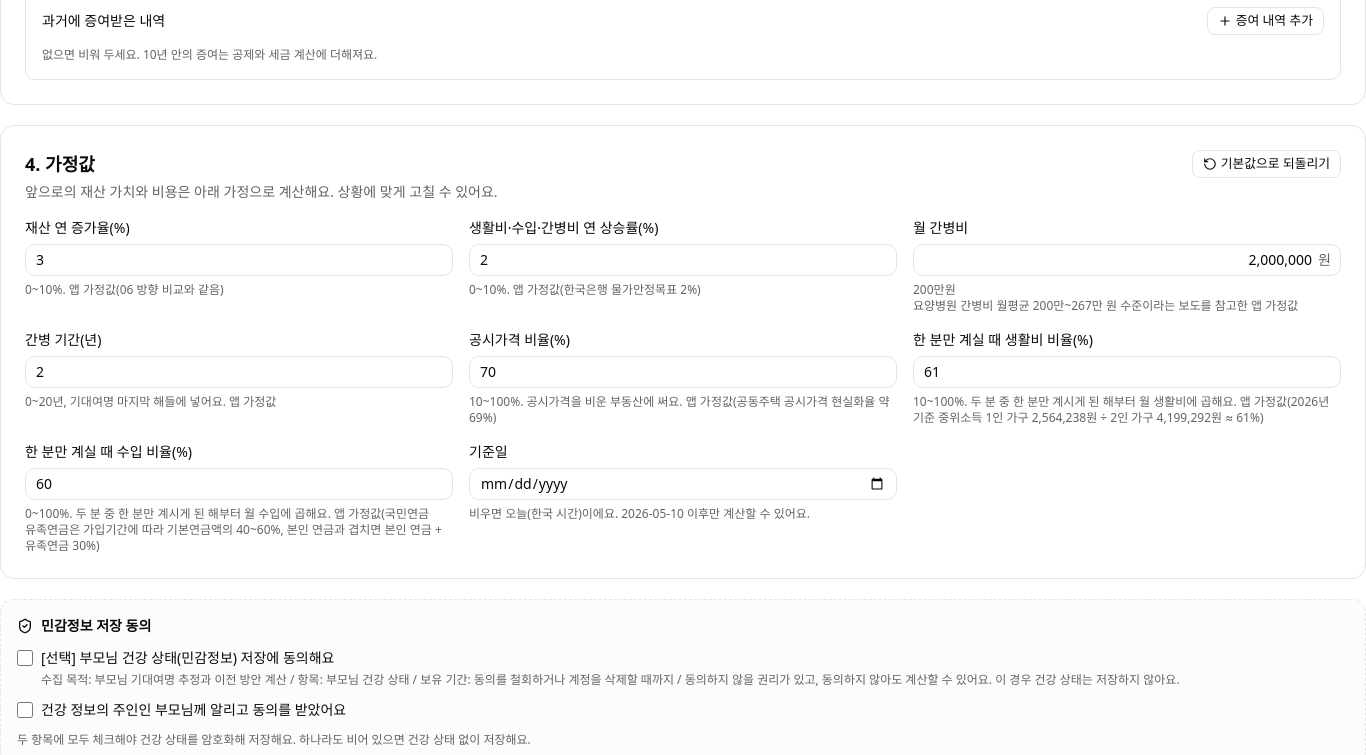
입력 › 가정값에 한 분만 계실 때 생활비·수입 비율 두 칸과 근거 안내가 있고, 검증과 기본값 되돌리기를 한다
(page scrolled)
Check: the field labelled "한 분만 계실 때 수입 비율(%)" holds "60", box [25,468,453,500]
Check: the field labelled "생활비·수입·간병비 연 상승률(%)" holds "2", box [469,244,897,276]
Replace the text in the field labelled "한 분만 계실 때 생활비 비율(%)" with "9.5" at (1127, 372), box [913,356,1341,388]
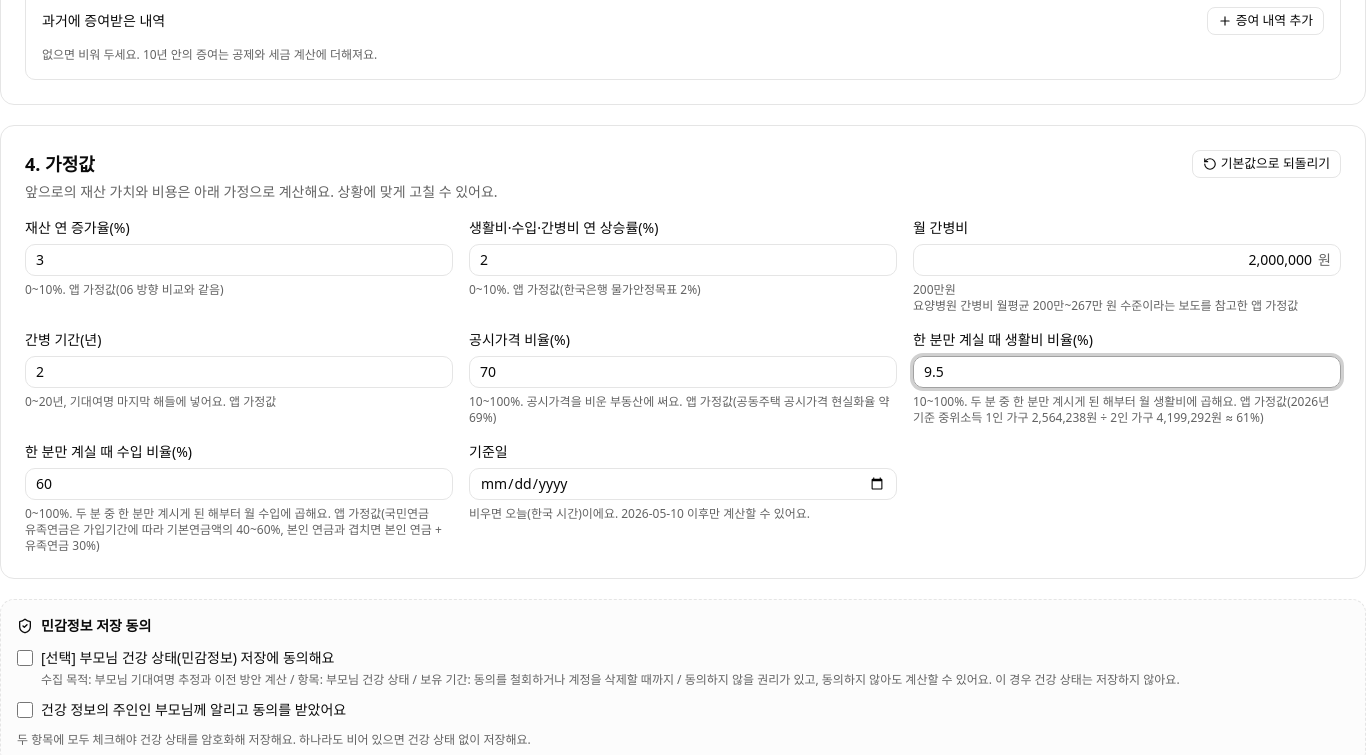
Replace the text in the field labelled "한 분만 계실 때 수입 비율(%)" with "100.5" at (239, 484), box [25,468,453,500]
(page scrolled)
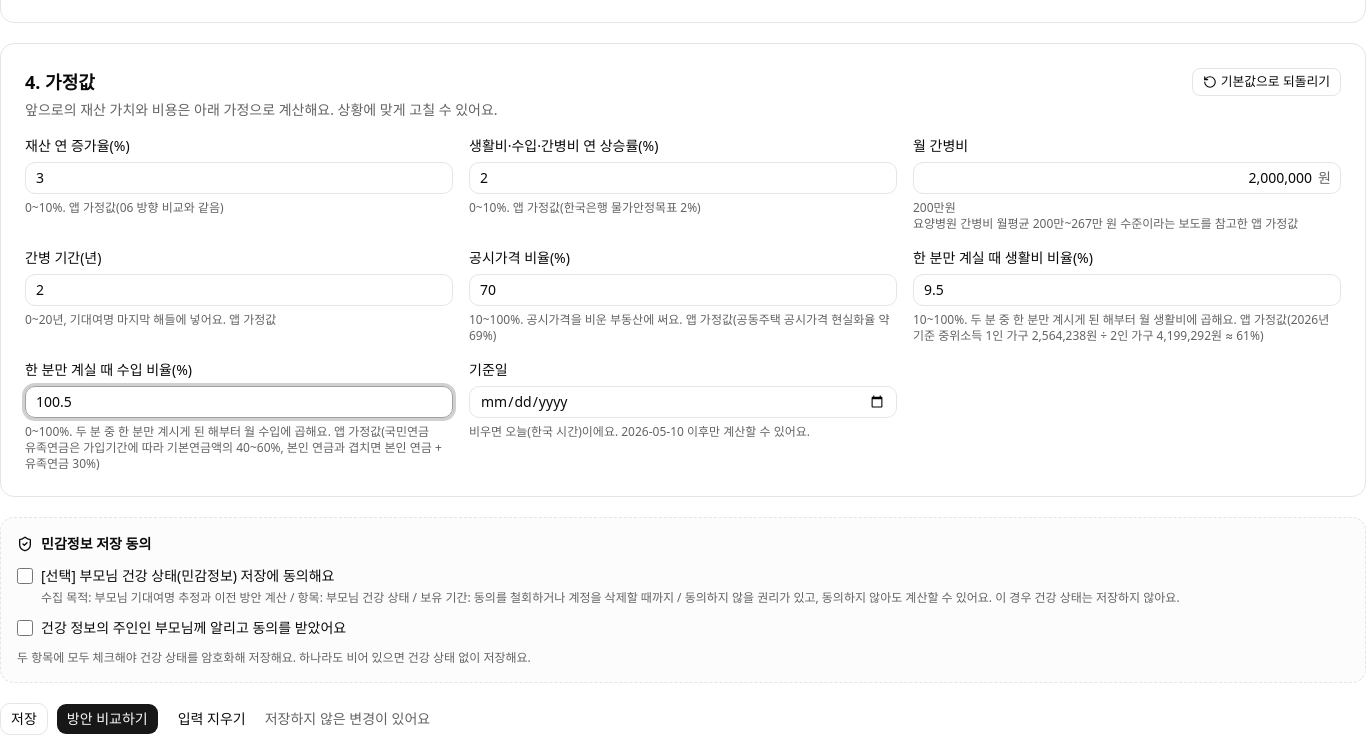
Click the button "방안 비교하기".
click(107, 718)  # box [56,702,159,734]
(page scrolled)
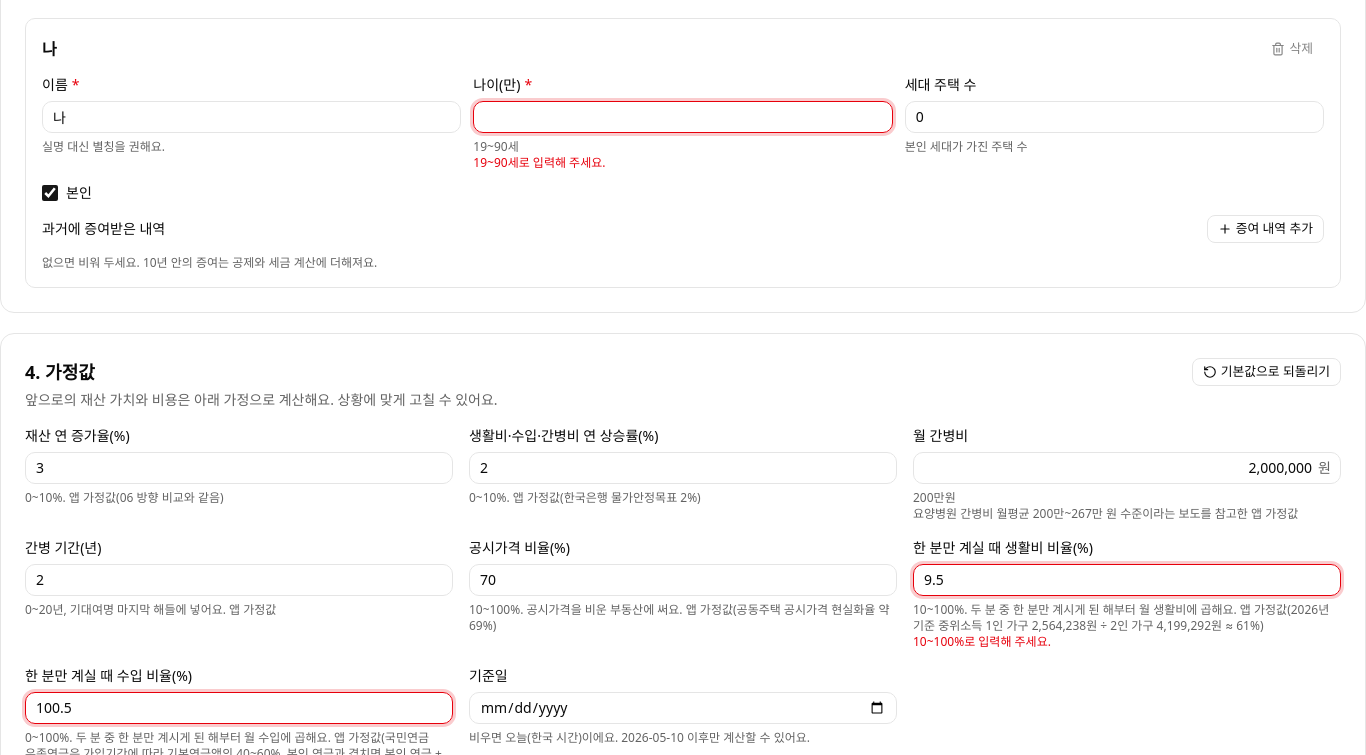
Check: the text "10~100%로 입력해 주세요." is shown, box [913,632,1051,650]
Click the button "기본값으로 되돌리기".
click(1266, 372)  # box [1192,358,1341,386]
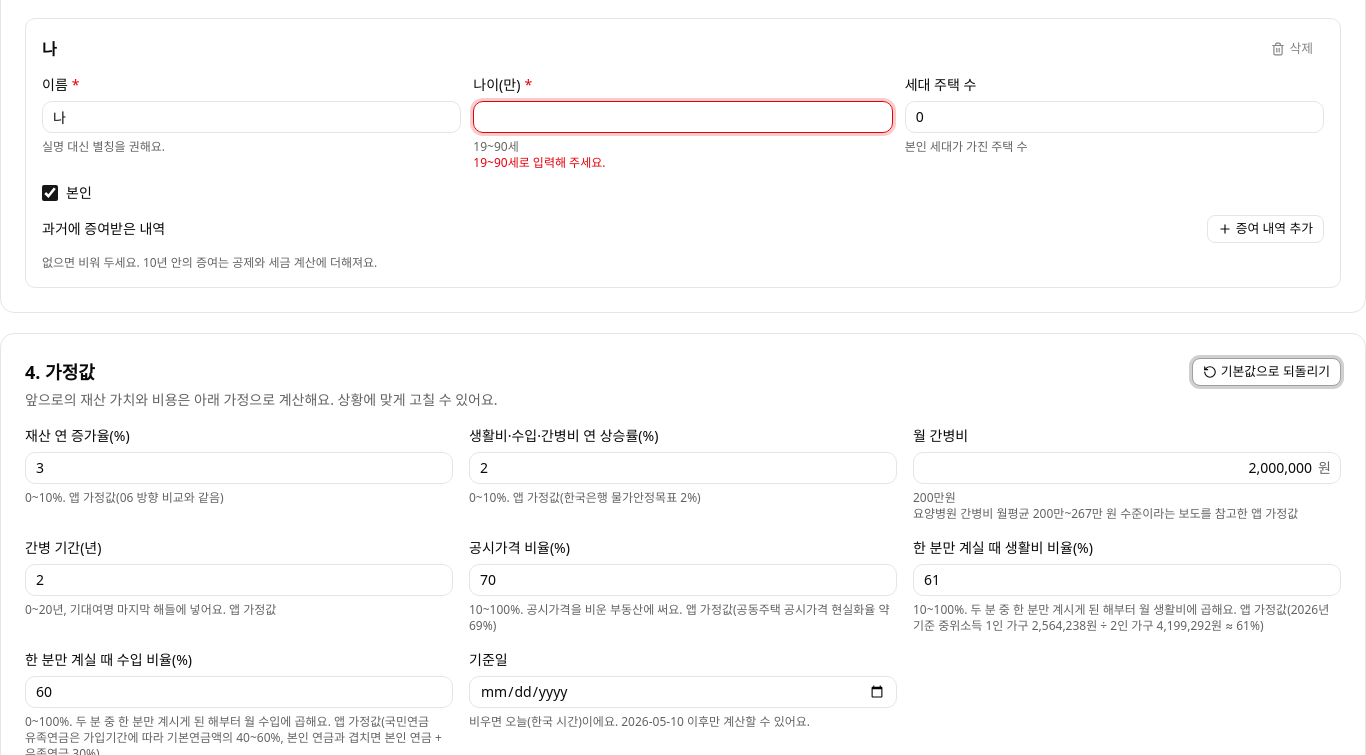
Check: the field labelled "한 분만 계실 때 생활비 비율(%)" holds "61", box [913,564,1341,596]
Check: the field labelled "한 분만 계실 때 수입 비율(%)" holds "60", box [25,676,453,708]
Check: the text "10~100%로 입력해 주세요." is gone
